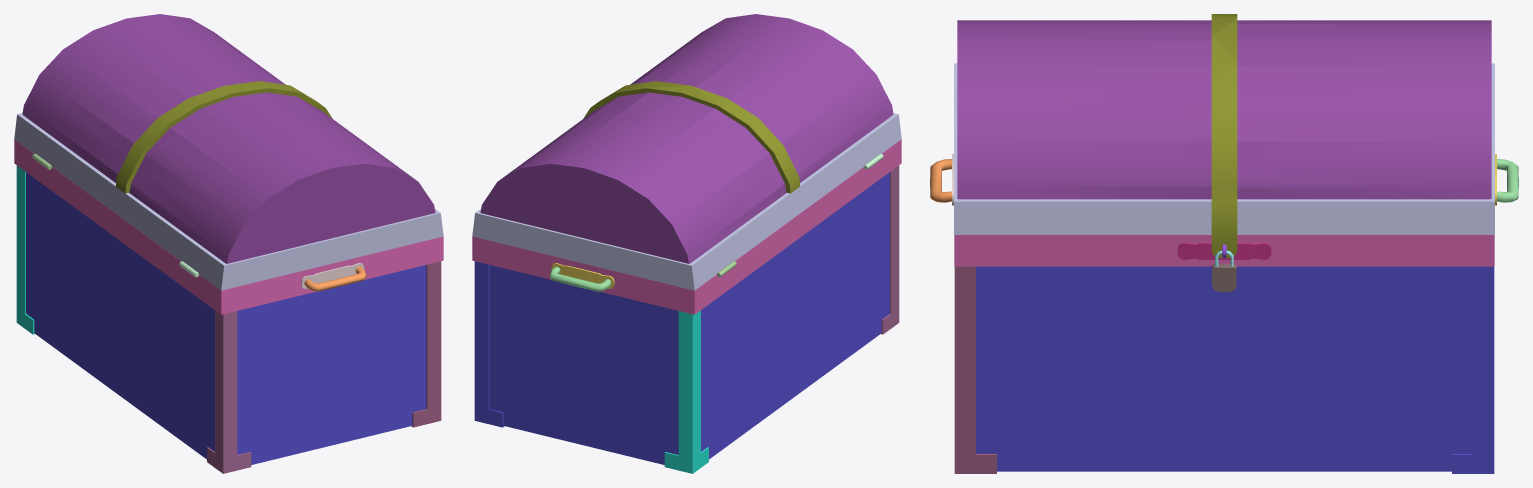
3 renders of one model, left to right at view 1: azimuth 30°, elevation 25°; view 2: azimuth 150°, elevation 25°; view 3: azimuth 270°, elevation 25°, orthographic. The views are drawn at different scales.
Visible parts, largest first — view 1: split_parent_12, defaultMaterial.011, split_parent_9, split_parent_10, defaultMaterial.114, split_parent_5, defaultMaterial.008, defaultMaterial.132, defaultMaterial.007, defaultMaterial.006; view 2: split_parent_12, defaultMaterial.011, split_parent_9, split_parent_10, defaultMaterial.132, split_parent_5, defaultMaterial.114, defaultMaterial.100, split_parent_14; view 3: split_parent_12, defaultMaterial.011, split_parent_9, split_parent_10, split_parent_5, defaultMaterial.008, defaultMaterial.004, defaultMaterial.006, split_parent_14, defaultMaterial.001.
Boxes of the visible parts, bbox=[...] form: split_parent_12: bbox=[26, 172, 426, 464]; defaultMaterial.011: bbox=[22, 14, 435, 263]; split_parent_9: bbox=[14, 113, 443, 290]; split_parent_10: bbox=[14, 139, 443, 314]; defaultMaterial.114: bbox=[207, 310, 251, 473]; split_parent_5: bbox=[115, 81, 332, 193]; defaultMaterial.008: bbox=[411, 261, 441, 427]; defaultMaterial.132: bbox=[16, 165, 34, 334]; defaultMaterial.007: bbox=[301, 263, 364, 288]; defaultMaterial.006: bbox=[304, 266, 366, 291]; split_parent_12: bbox=[474, 172, 889, 464]; defaultMaterial.011: bbox=[480, 14, 893, 263]; split_parent_9: bbox=[472, 113, 901, 290]; split_parent_10: bbox=[472, 139, 901, 314]; defaultMaterial.132: bbox=[664, 310, 708, 473]; split_parent_5: bbox=[583, 81, 800, 193]; defaultMaterial.114: bbox=[881, 165, 899, 334]; defaultMaterial.100: bbox=[551, 263, 614, 288]; split_parent_14: bbox=[549, 266, 611, 291]; split_parent_12: bbox=[976, 266, 1494, 473]; defaultMaterial.011: bbox=[957, 20, 1491, 199]; split_parent_9: bbox=[954, 63, 1494, 234]; split_parent_10: bbox=[954, 235, 1494, 266]; split_parent_5: bbox=[1211, 14, 1237, 258]; defaultMaterial.008: bbox=[954, 266, 996, 473]; defaultMaterial.004: bbox=[1177, 242, 1271, 259]; defaultMaterial.006: bbox=[930, 159, 951, 202]; split_parent_14: bbox=[1497, 159, 1518, 202]; defaultMaterial.001: bbox=[1212, 264, 1236, 291].
Size of the model in its own units: 0.6023 by 0.6915 by 1.
